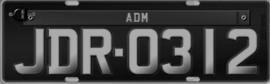placa_antiga: (0, 0, 268, 83)
